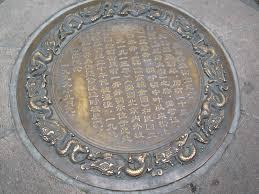wellcover: (29, 0, 229, 185)
